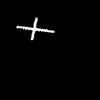single_crochet: (17, 18, 53, 39)
